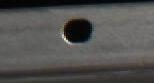holes: (61, 16, 95, 44)
